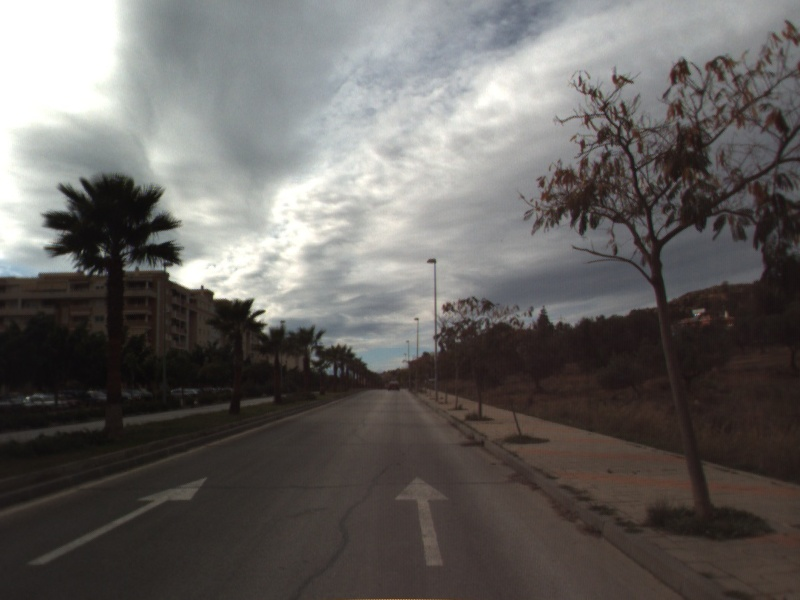STRAIGHT: (23, 475, 210, 568), (393, 474, 452, 568)
